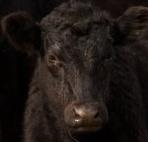muzzles: (63, 101, 107, 134)
